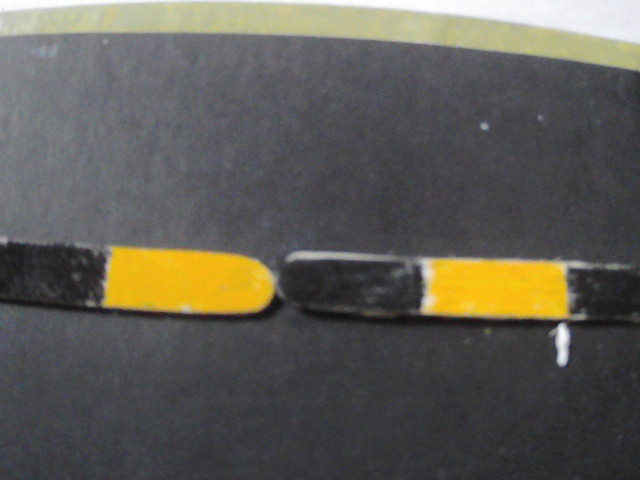black_strip: (281, 253, 414, 318), (0, 238, 96, 307), (571, 259, 640, 319)
mixed_lane: (0, 237, 639, 321)
yellow_strip: (104, 248, 272, 311), (415, 256, 569, 324)
